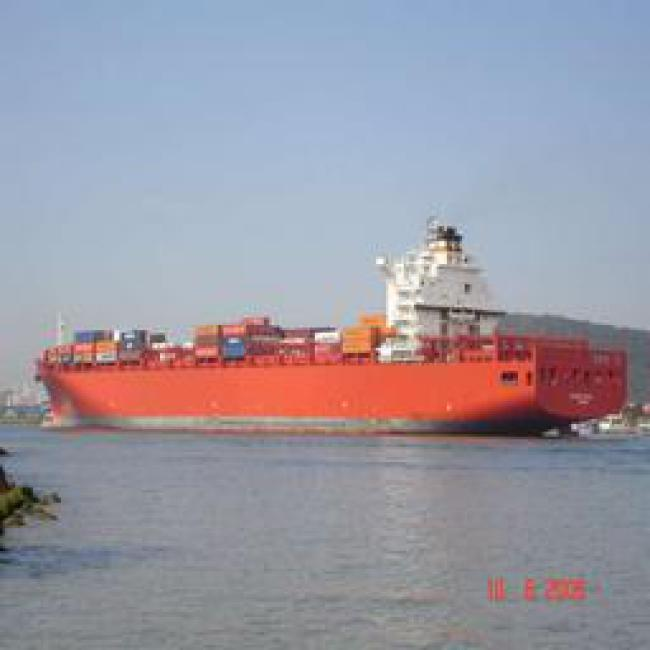Ship: (42, 293, 626, 435)
